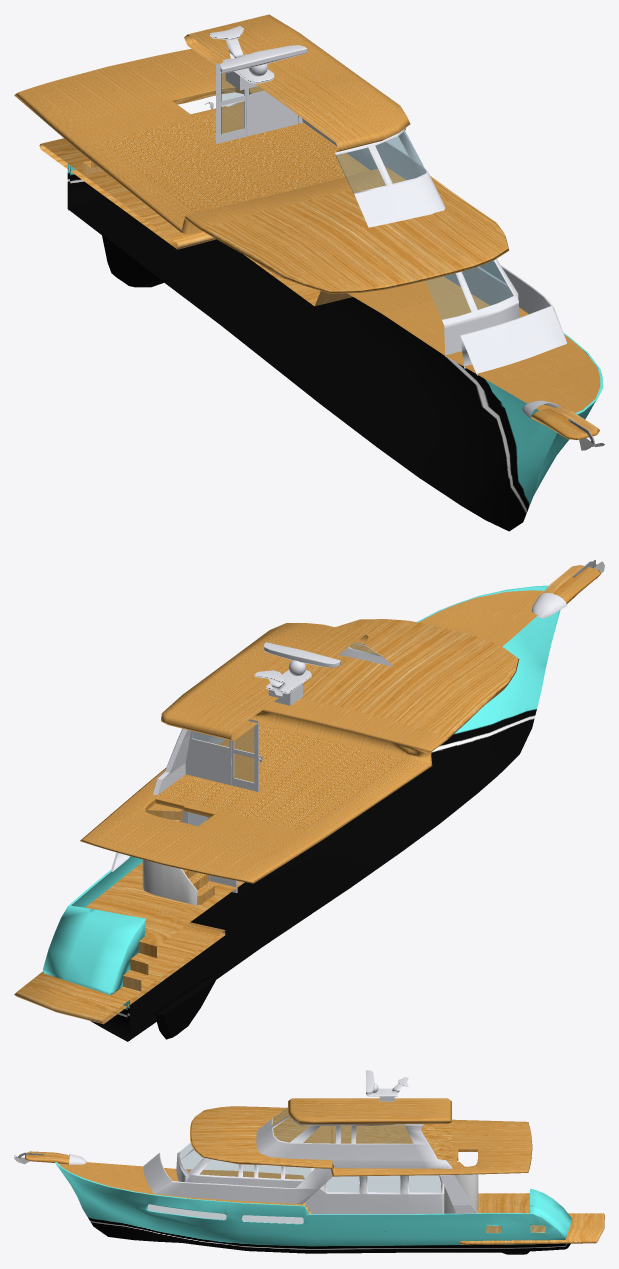
File: Marlow66.glb
3 views of the same model, one above another, from view 1: azimuth 30°, elevation 25°; view 2: azimuth 150°, elevation 25°; view 3: azimuth 270°, elevation 25° (orthographic). The views are drawn at different scales.
Visible parts, largest first — view 1: FloorSecond, Hull, FloorTop, FloorFirst, Cabin, CabinTop, BackWalls, Platform, TopCabinWindows, Cabin.Windows, RadarAssy, Keel (+2 smaller); view 2: FloorSecond, Hull, FloorTop, Platform, HullBottom, BackWalls, FloorFirst, RadarAssy, Keel, CabinTop, StairsCover, FrontPlat (+2 smaller); view 3: Hull, FloorSecond, Cabin, CabinTop, FloorTop, Cabin.Windows, FloorFirst, TopCabinWindows, Platform, HullBottom, WindowsHull, StairsCover (+2 smaller).
Boxes of the visible parts, box(x1,y1,x2,y2) form: FloorSecond: box(14, 49, 509, 293); Hull: box(67, 164, 603, 531); FloorTop: box(184, 14, 410, 152); FloorFirst: box(347, 276, 601, 412); Cabin: box(442, 259, 566, 418); CabinTop: box(298, 115, 445, 227); BackWalls: box(216, 62, 302, 143); Platform: box(39, 138, 215, 249); TopCabinWindows: box(337, 131, 425, 192); Cabin.Windows: box(425, 261, 513, 319); RadarAssy: box(210, 26, 306, 90); Keel: box(101, 228, 172, 287); FloorSecond: box(80, 619, 519, 883); Hull: box(42, 585, 560, 1041); FloorTop: box(161, 623, 368, 740); Platform: box(14, 922, 225, 1024); HullBottom: box(85, 862, 244, 996); BackWalls: box(181, 719, 258, 892); FloorFirst: box(418, 590, 543, 646); RadarAssy: box(254, 642, 340, 705); Keel: box(154, 973, 216, 1039); CabinTop: box(153, 642, 394, 795); StairsCover: box(142, 811, 197, 905); FrontPlat: box(542, 565, 600, 604); Hull: box(55, 1162, 572, 1253); FloorSecond: box(190, 1106, 532, 1176); Cabin: box(69, 1149, 477, 1214); CabinTop: box(256, 1107, 452, 1168); FloorTop: box(288, 1098, 451, 1124); Cabin.Windows: box(180, 1143, 441, 1192); FloorFirst: box(59, 1162, 302, 1206); TopCabinWindows: box(273, 1108, 412, 1143); Platform: box(459, 1213, 604, 1244); HullBottom: box(303, 1176, 529, 1214); WindowsHull: box(148, 1204, 545, 1232); StairsCover: box(444, 1174, 478, 1213).
Size of what is drawn, in the model's own units: 5.49 by 7.28 by 22.48.
7 materials, 2 textured.
